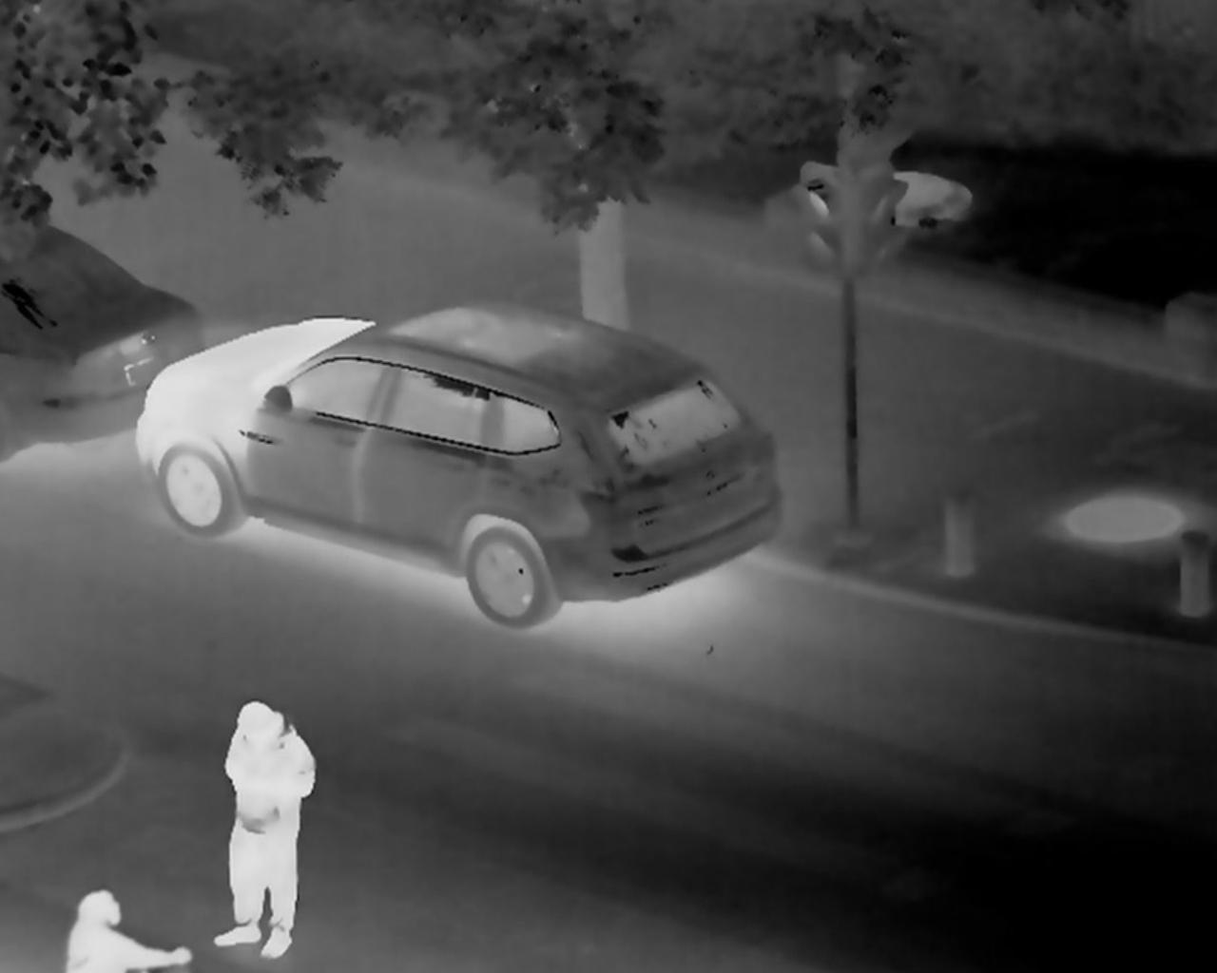person: (211, 695, 317, 959), (56, 881, 195, 973)
